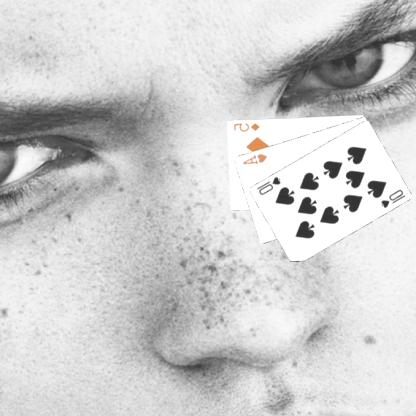10S: (256, 174, 284, 196), (380, 187, 408, 209)
5D: (233, 120, 262, 133)
AH: (242, 151, 270, 166)
